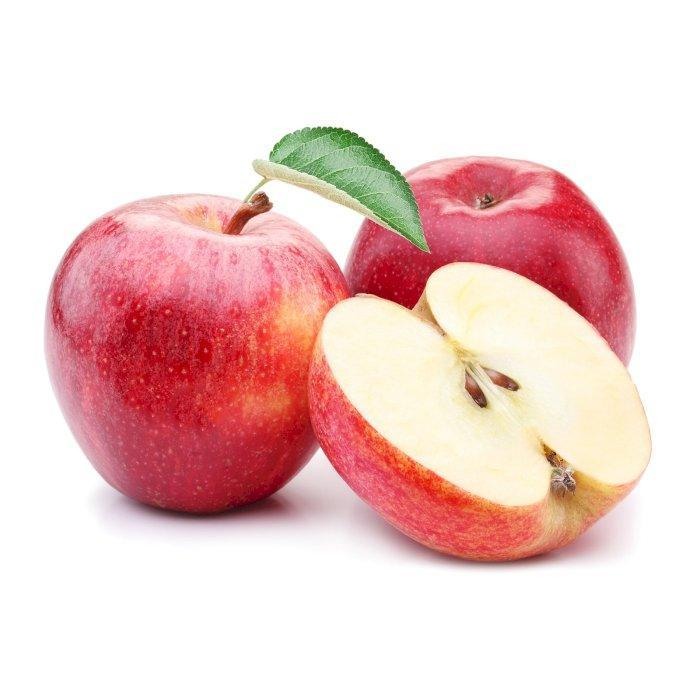apple: (312, 259, 651, 562), (42, 199, 356, 522), (347, 155, 636, 377)
